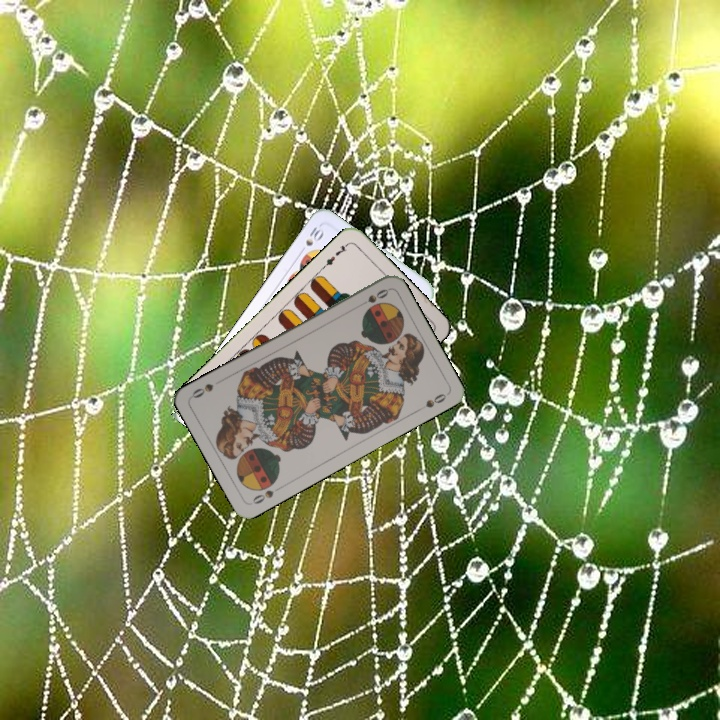E7: (319, 239, 351, 271)
S10: (295, 222, 327, 257)
SO: (354, 285, 391, 310), (248, 482, 285, 507)
